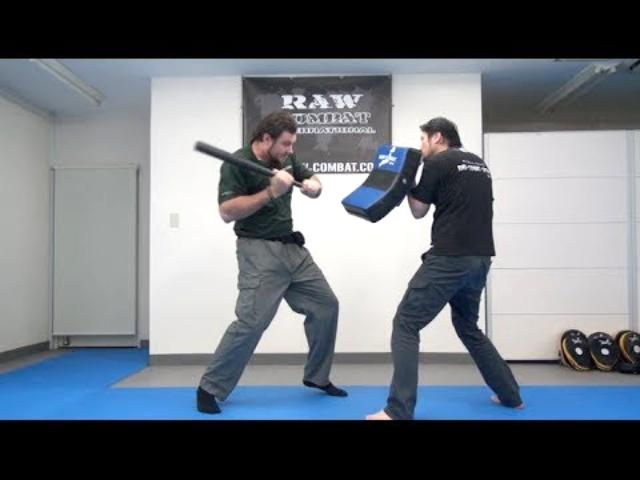baseball bat: (192, 138, 326, 200)
